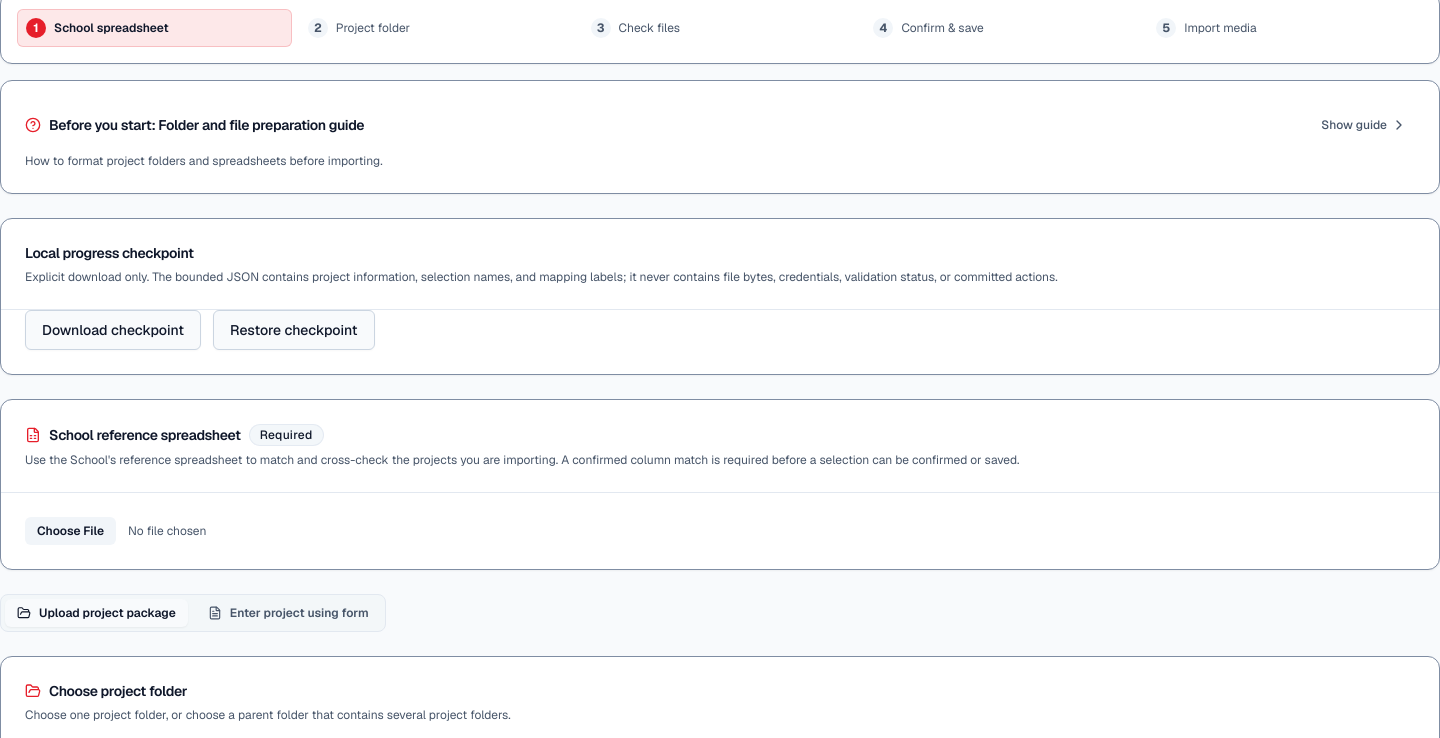
Test case: BrowserImportFormIntakeFlow - Form Intake in BrowserImportPreviewClient › toggles between Upload project package and Enter project using form tabs
The image size is (1440, 738).
Expected: the heading "Choose project folder" is shown, [49,681,187,701]
Expected: the text "1. Project Identification" is not shown
Switch to Form tab
Step 1. Click the button "Enter project using form" → (288, 613), box [196,599,381,627]
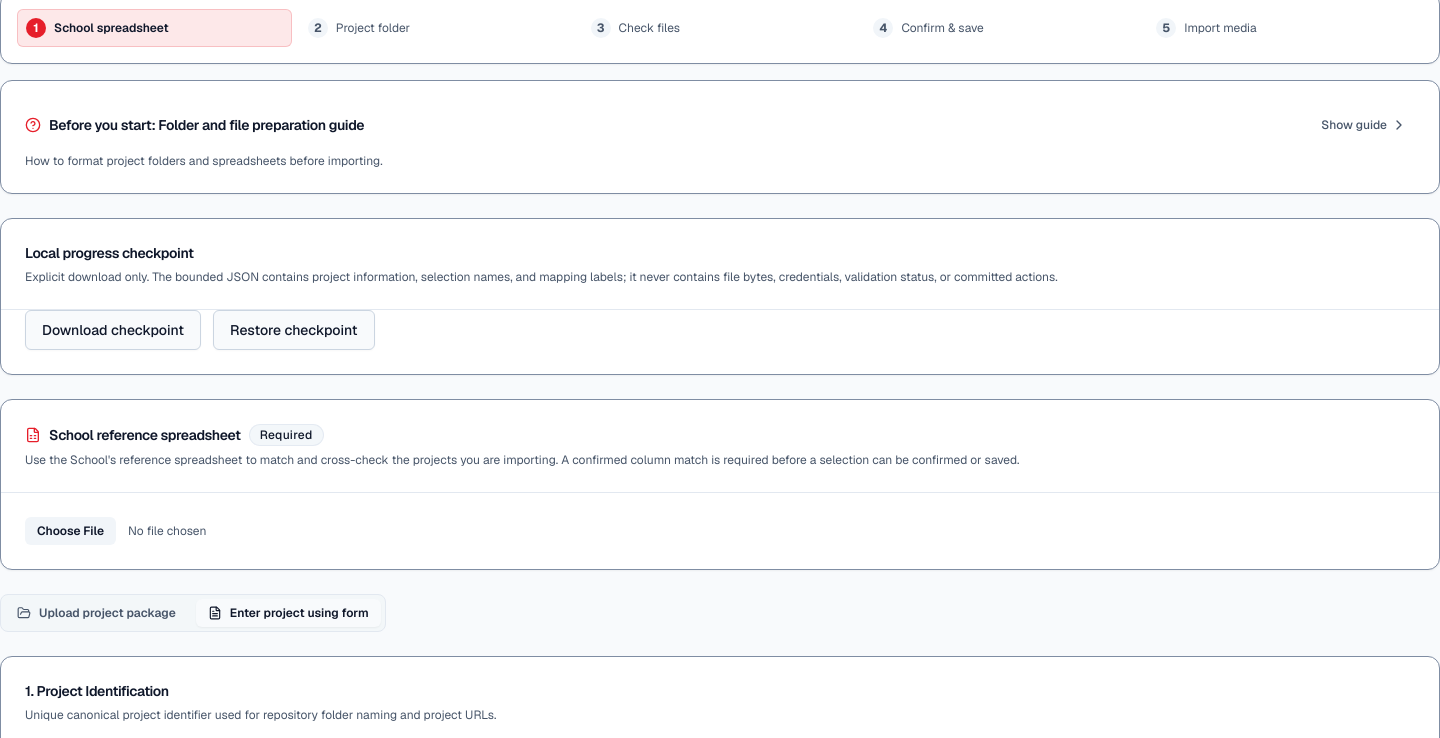
Result: the heading "1. Project Identification" is shown at [25,682,169,700]
Result: the heading "Choose project folder" is gone
Switch back to Package tab
Step 2. Click the button "Upload project package" → (96, 613), box [5,599,188,627]
(page scrolled)
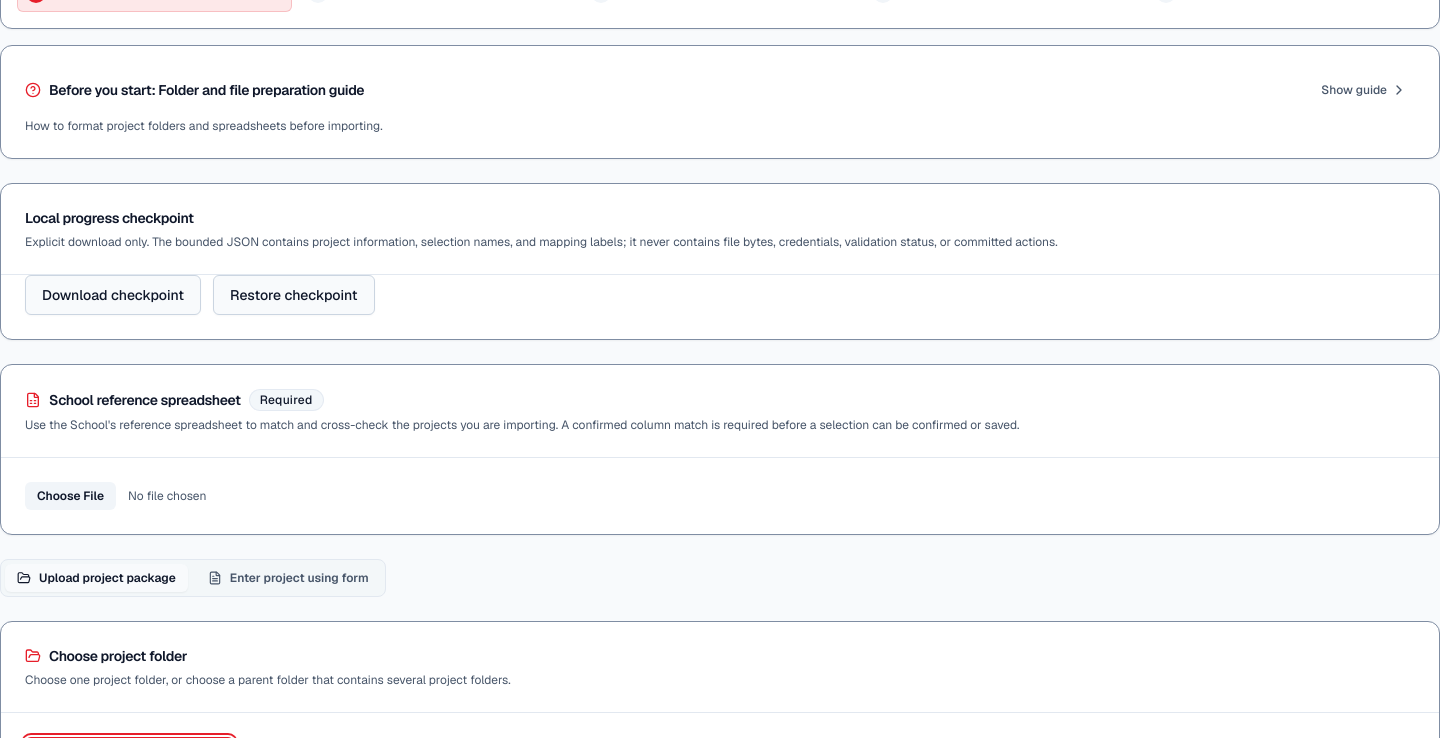
Result: the heading "Choose project folder" is shown at [49,646,187,666]
Result: the heading "1. Project Identification" is gone
